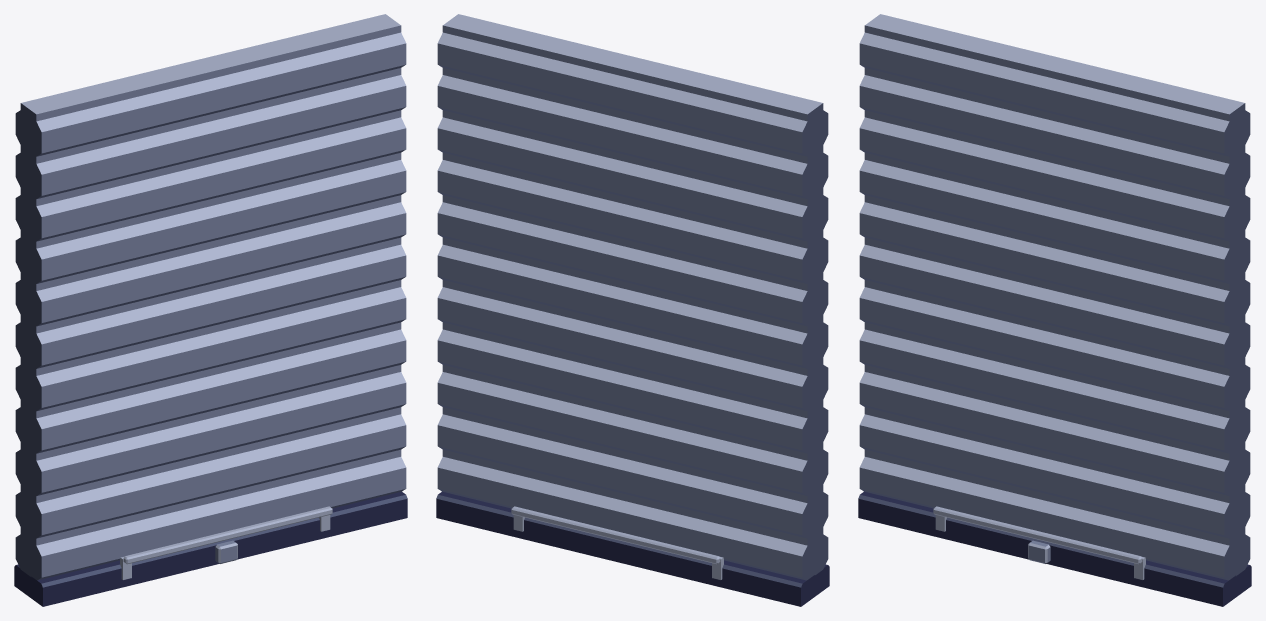
File: Shutter_8x10.fbx
The picture shows the model from 3 angles, left to right: view 1: azimuth 30°, elevation 25°; view 2: azimuth 150°, elevation 25°; view 3: azimuth 330°, elevation 25°; orthographic projection.
Parts seen in each view (by area): view 1: Shutter_8x10; view 2: Shutter_8x10; view 3: Shutter_8x10.
Boxes of the visible parts, <box> form: Shutter_8x10: <box>14,14,407,606</box>; Shutter_8x10: <box>436,14,829,606</box>; Shutter_8x10: <box>858,14,1251,606</box>.
Bounding box in the file's own units: 8.1 × 10.35 × 1.46.
Materials: 1 (1 with a texture image).
